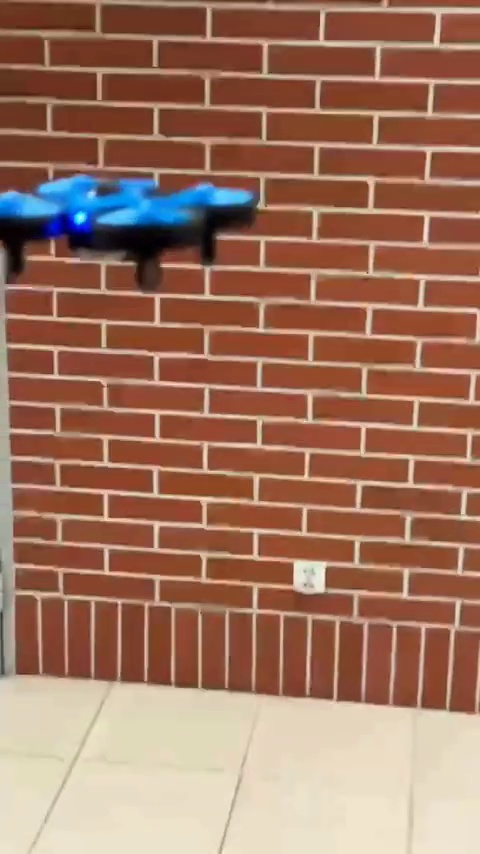drone: (0, 175, 257, 291)
